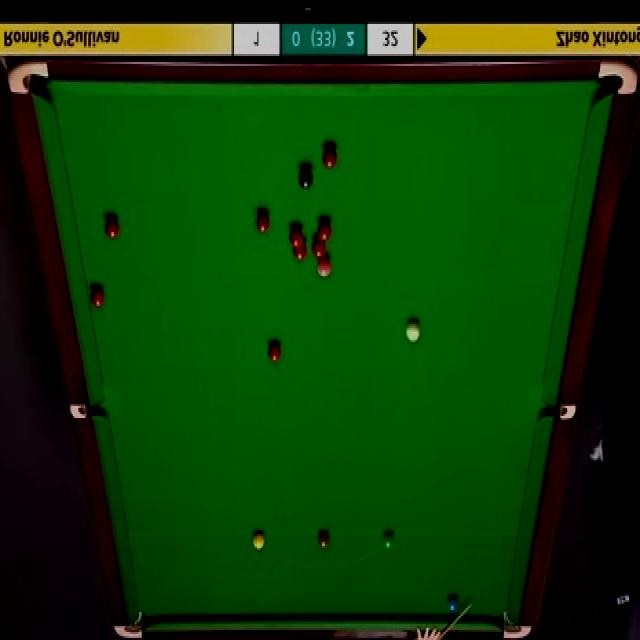black-ball: (299, 167, 315, 189)
blue-ball: (448, 596, 462, 613)
brown-ball: (318, 530, 331, 550)
green-ball: (381, 529, 395, 550)
pink-ball: (316, 256, 332, 281)
red-ball: (255, 208, 271, 235), (90, 284, 107, 308), (322, 146, 338, 170), (104, 216, 120, 240), (310, 238, 326, 260), (317, 220, 332, 243), (267, 340, 282, 362), (293, 239, 307, 262), (289, 226, 303, 247)
white-ball: (405, 318, 421, 342)
yellow-ball: (251, 530, 266, 551)
